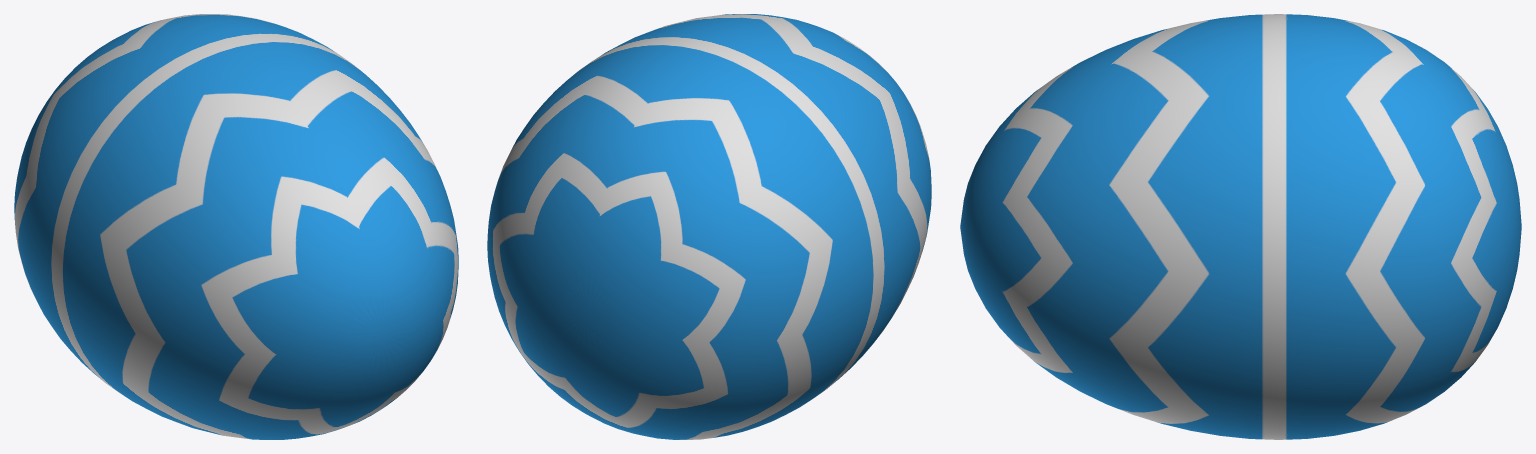
The model's file is 12174_Egg_v1_l2.obj.
3 views of the same model, side by side, from view 1: azimuth 30°, elevation 25°; view 2: azimuth 150°, elevation 25°; view 3: azimuth 270°, elevation 25° (orthographic). The views are drawn at different scales.
Visible parts, largest first — view 1: Egg; view 2: Egg; view 3: Egg.
Part boxes in pixels (x1,y1,x2,y2): Egg: [14, 14, 458, 439]; Egg: [487, 14, 931, 439]; Egg: [960, 14, 1521, 439].
Size of the model in its own units: 46.12 by 46.12 by 60.74.
1 material, 1 textured.
